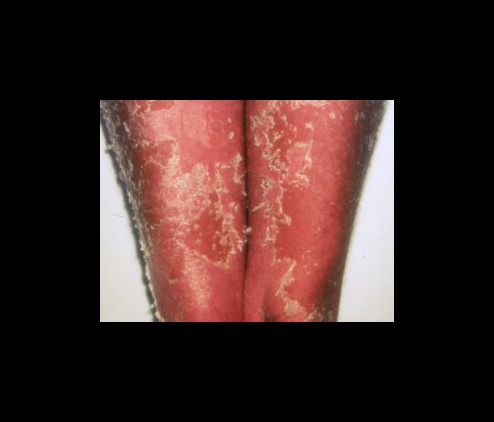SJS-TEN: (96, 98, 395, 324)
